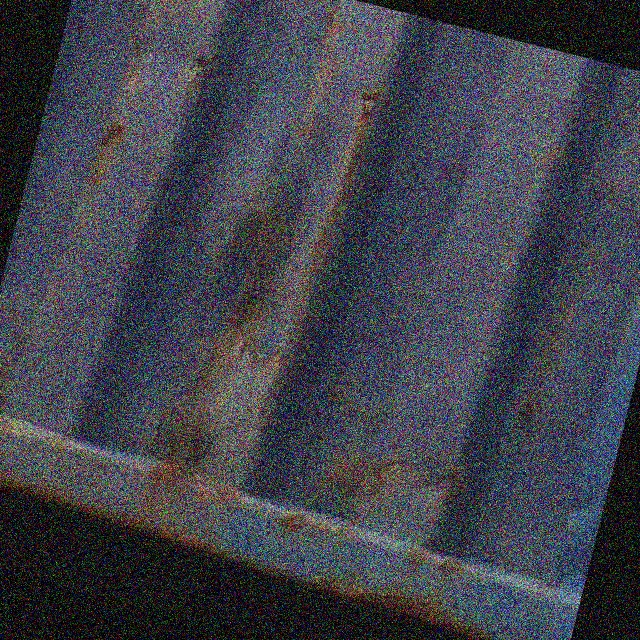Dent: (134, 98, 367, 391)
